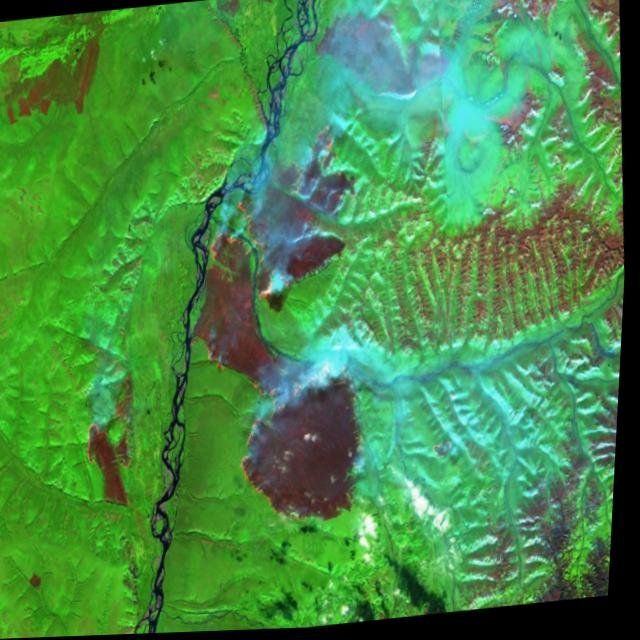fire: (166, 106, 392, 544), (75, 367, 152, 481), (429, 420, 468, 471)
